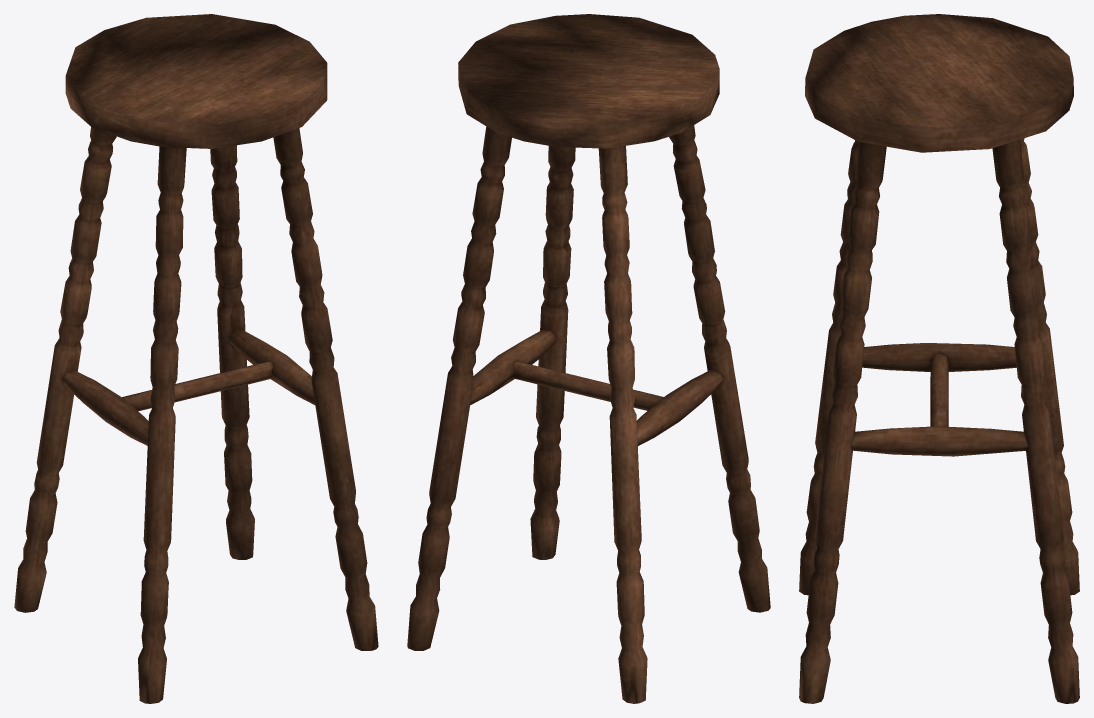
The model's file is st_stool_7_bar.gltf.
The picture shows the model from 3 angles, left to right: view 1: azimuth 30°, elevation 25°; view 2: azimuth 150°, elevation 25°; view 3: azimuth 270°, elevation 25°; orthographic projection. The views are drawn at different scales.
Visible parts, largest first — view 1: stool_01.002, stool_01.001, stool_01; view 2: stool_01.002, stool_01.001, stool_01; view 3: stool_01.002, stool_01.001, stool_01.
Part boxes in pixels (x1=…): stool_01.002: x1=14, y1=127, x2=378, y2=703; stool_01.001: x1=65, y1=14, x2=327, y2=148; stool_01: x1=62, y1=329, x2=315, y2=445; stool_01.002: x1=407, y1=125, x2=770, y2=703; stool_01.001: x1=458, y1=14, x2=719, y2=148; stool_01: x1=470, y1=329, x2=723, y2=445; stool_01.002: x1=799, y1=138, x2=1079, y2=703; stool_01.001: x1=805, y1=14, x2=1073, y2=152; stool_01: x1=851, y1=343, x2=1028, y2=456.
Size of the model in its own units: 0.2966 by 0.67 by 0.2968.
1 material, 1 textured.
